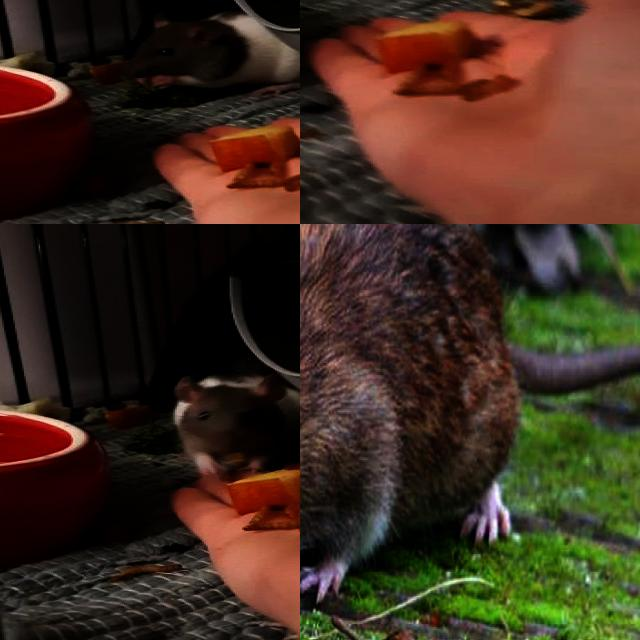rat: (300, 224, 515, 601), (125, 6, 300, 99), (171, 372, 300, 475)
